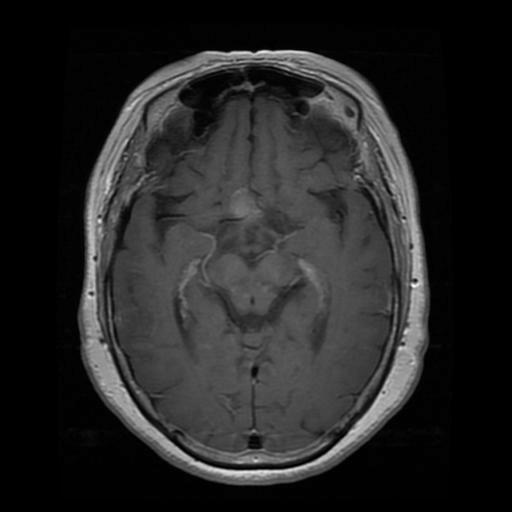Tumour-Pituitary: (223, 178, 269, 233)
